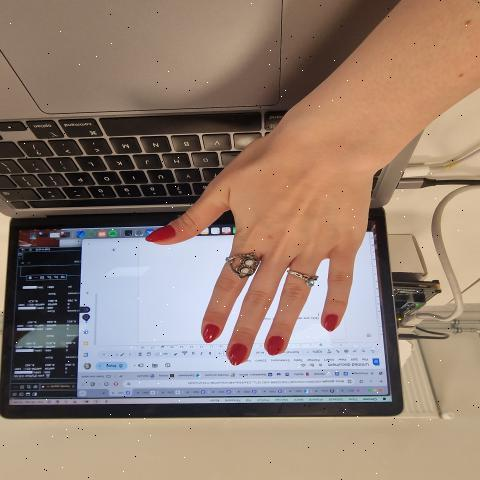Hands: (122, 86, 376, 393)
